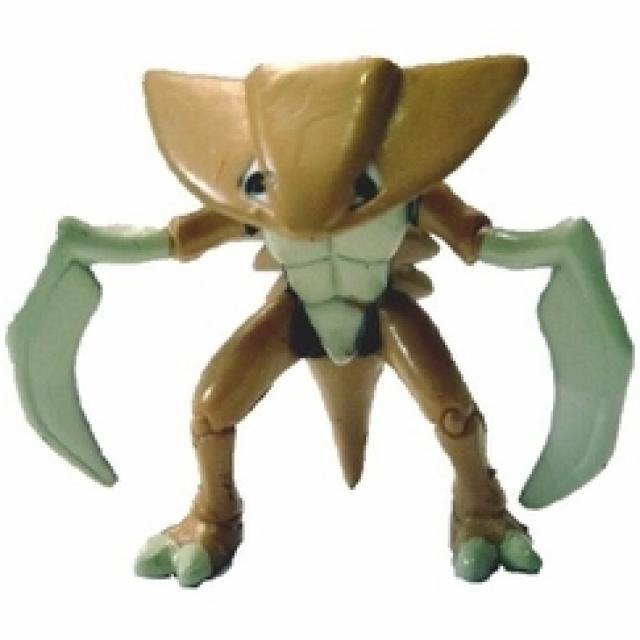Kabutops: (6, 49, 628, 590), (137, 53, 528, 585)
